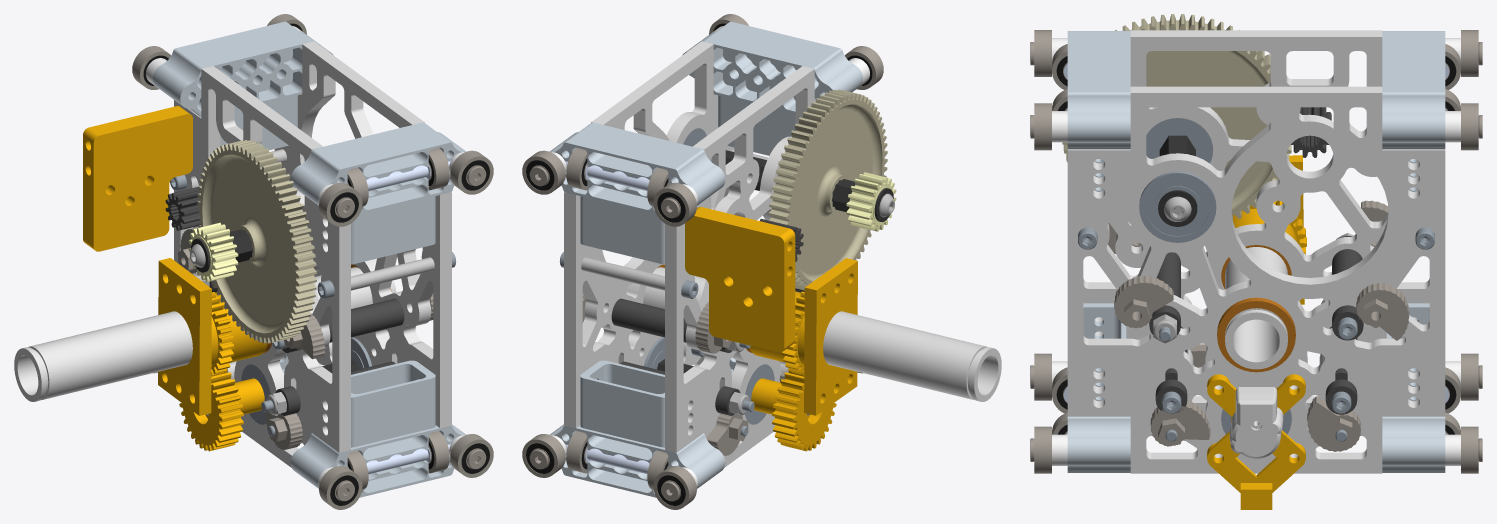
3 views of the same model, side by side, from view 1: azimuth 30°, elevation 25°; view 2: azimuth 150°, elevation 25°; view 3: azimuth 270°, elevation 25° (orthographic). The views are drawn at different scales.
Visible parts, largest first — view 1: WCP-0199-001 Rev2 (×3), FrontPlate, 72t 20dp Aluminum 1/2" Hex Bore Pocketed Gear (WCP-0123), BackPlate, IgusMount, PivotAxle, 30t20dpArmAxleGear, WCP-0212_0_250_radial_bearing (×7), 30t20dpEncoderAxleGear, WCP Cam (217-3431) (×2), 18t 20dp Aluminum 1/2" Hex Bore Gear (217-3209), Tensioner Outside Spacer (+5 smaller); view 2: WCP-0199-001 Rev2 (×3), FrontPlate, BackPlate, 72t 20dp Aluminum 1/2" Hex Bore Pocketed Gear (WCP-0123), IgusMount, PivotAxle, WCP-0212_0_250_radial_bearing (×7), 30t20dpArmAxleGear, 30t20dpEncoderAxleGear, WCP Cam (217-3431) (×2), 18t 20dp Aluminum 1/2" Hex Bore Gear (217-3209), Tensioner Outside Spacer (+4 smaller); view 3: BackPlate, FrontPlate, WCP-0199-001 Rev2 (×4), WCP-0212_0_250_radial_bearing (×12), 72t 20dp Aluminum 1/2" Hex Bore Pocketed Gear (WCP-0123), WCP Cam (217-3431) (×4), CancoderMount, .5" Hex ID 1.125" OD Flanged Bearing (217-2734) (×2), PivotAxle, id3232, WCP-0199-007 Rev2_0.750 Bearing (×4), Shaft (+5 smaller).
Part boxes in pixels (box(x1,y1,x2,y2)): WCP-0199-001 Rev2 (×3): box(152, 21, 466, 497); FrontPlate: box(174, 66, 350, 467); 72t 20dp Aluminum 1/2" Hex Bore Pocketed Gear (WCP-0123): box(197, 140, 316, 343); BackPlate: box(274, 41, 451, 427); IgusMount: box(83, 106, 192, 251); PivotAxle: box(14, 267, 396, 401); 30t20dpArmAxleGear: box(158, 258, 267, 415); WCP-0212_0_250_radial_bearing (×7): box(132, 46, 493, 509); 30t20dpEncoderAxleGear: box(179, 368, 264, 451); WCP Cam (217-3431) (×2): box(265, 313, 325, 449); 18t 20dp Aluminum 1/2" Hex Bore Gear (217-3209): box(188, 222, 238, 281); Tensioner Outside Spacer: box(329, 298, 404, 342); WCP-0199-001 Rev2 (×3): box(549, 21, 863, 497); FrontPlate: box(665, 66, 814, 467); BackPlate: box(564, 41, 734, 427); 72t 20dp Aluminum 1/2" Hex Bore Pocketed Gear (WCP-0123): box(768, 89, 887, 290); IgusMount: box(685, 207, 795, 352); PivotAxle: box(643, 267, 1001, 401); WCP-0212_0_250_radial_bearing (×7): box(522, 46, 883, 509); 30t20dpArmAxleGear: box(750, 258, 857, 415); 30t20dpEncoderAxleGear: box(751, 371, 836, 451); WCP Cam (217-3431) (×2): box(695, 301, 748, 455); 18t 20dp Aluminum 1/2" Hex Bore Gear (217-3209): box(846, 172, 896, 231); Tensioner Outside Spacer: box(611, 298, 686, 342); BackPlate: box(1067, 86, 1445, 473); FrontPlate: box(1083, 30, 1429, 413); WCP-0199-001 Rev2 (×4): box(1067, 31, 1445, 472); WCP-0212_0_250_radial_bearing (×12): box(1034, 30, 1478, 473); 72t 20dp Aluminum 1/2" Hex Bore Pocketed Gear (WCP-0123): box(1062, 14, 1291, 220); WCP Cam (217-3431) (×4): box(1114, 276, 1409, 451); CancoderMount: box(1207, 374, 1305, 509); .5" Hex ID 1.125" OD Flanged Bearing (217-2734) (×2): box(1139, 118, 1216, 242); PivotAxle: box(1225, 247, 1287, 369); id3232: box(1230, 394, 1282, 458); WCP-0199-007 Rev2_0.750 Bearing (×4): box(1052, 111, 1460, 465); Shaft: box(1158, 135, 1197, 226).
Bounding box in the file's own units: 0.1998 × 0.1803 × 0.1825.
